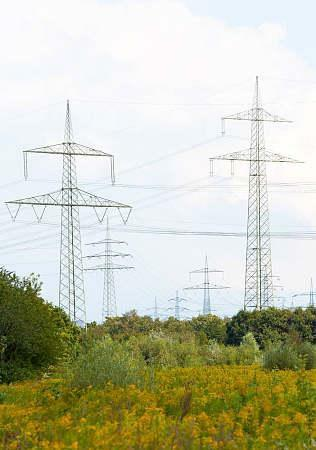power_tower: (7, 94, 133, 323), (208, 71, 309, 314), (86, 215, 134, 321), (185, 256, 227, 311), (166, 289, 194, 324)
